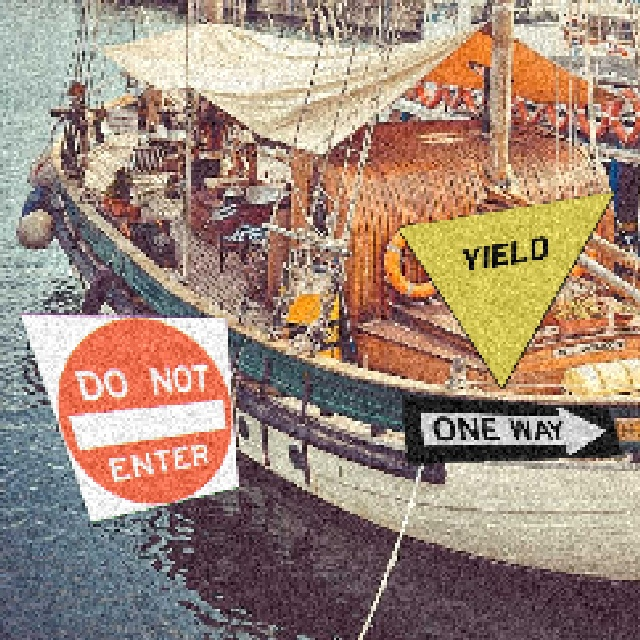DO_NOT_ENTER: (15, 310, 238, 522)
ONE_WAY_ right: (399, 393, 622, 463)
YIELD: (393, 188, 616, 389)
